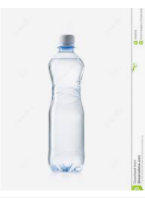Bottle: (49, 32, 86, 174)
